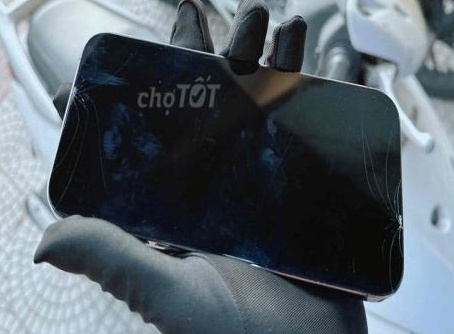scratch: (231, 235, 276, 270), (259, 113, 281, 176), (159, 42, 192, 78)
screen_defect: (53, 51, 135, 207), (356, 126, 405, 303)
